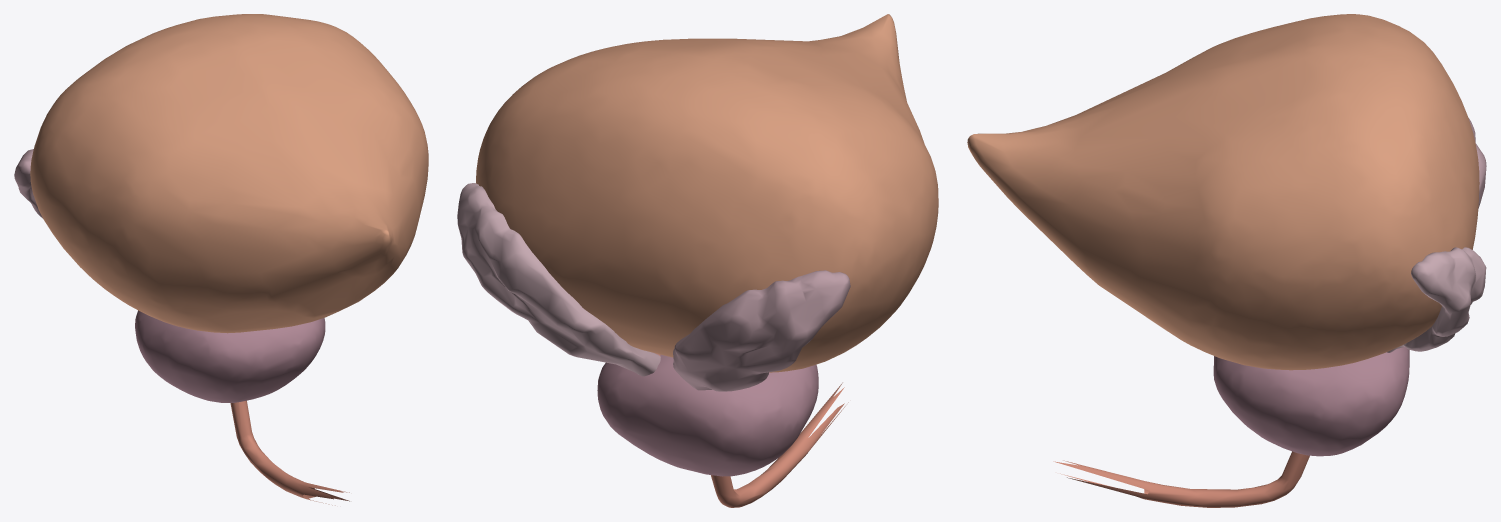
File: bladder.glb
3 renders of one model, left to right at view 1: azimuth 30°, elevation 25°; view 2: azimuth 150°, elevation 25°; view 3: azimuth 270°, elevation 25°, orthographic. The views are drawn at different scales.
Visible parts, largest first — view 1: urinary-bladder, prostate, urethra, right-seminal-vesicle; view 2: urinary-bladder, prostate, right-seminal-vesicle, left-seminal-vesicle, urethra; view 3: urinary-bladder, prostate, left-seminal-vesicle, urethra.
Part boxes in pixels (<box>): urinary-bladder: <box>30,14,428,333</box>; prostate: <box>135,310,325,402</box>; urethra: <box>230,400,349,505</box>; right-seminal-vesicle: <box>14,149,42,218</box>; urinary-bladder: <box>476,14,938,372</box>; prostate: <box>597,354,818,476</box>; right-seminal-vesicle: <box>673,270,850,391</box>; left-seminal-vesicle: <box>457,183,660,376</box>; urethra: <box>655,353,848,507</box>; urinary-bladder: <box>967,14,1479,370</box>; prostate: <box>1213,347,1409,456</box>; left-seminal-vesicle: <box>1387,247,1486,352</box>; urethra: <box>1053,451,1309,507</box>.
Size of the model in its own units: 1.45 by 1.64 by 1.68.
